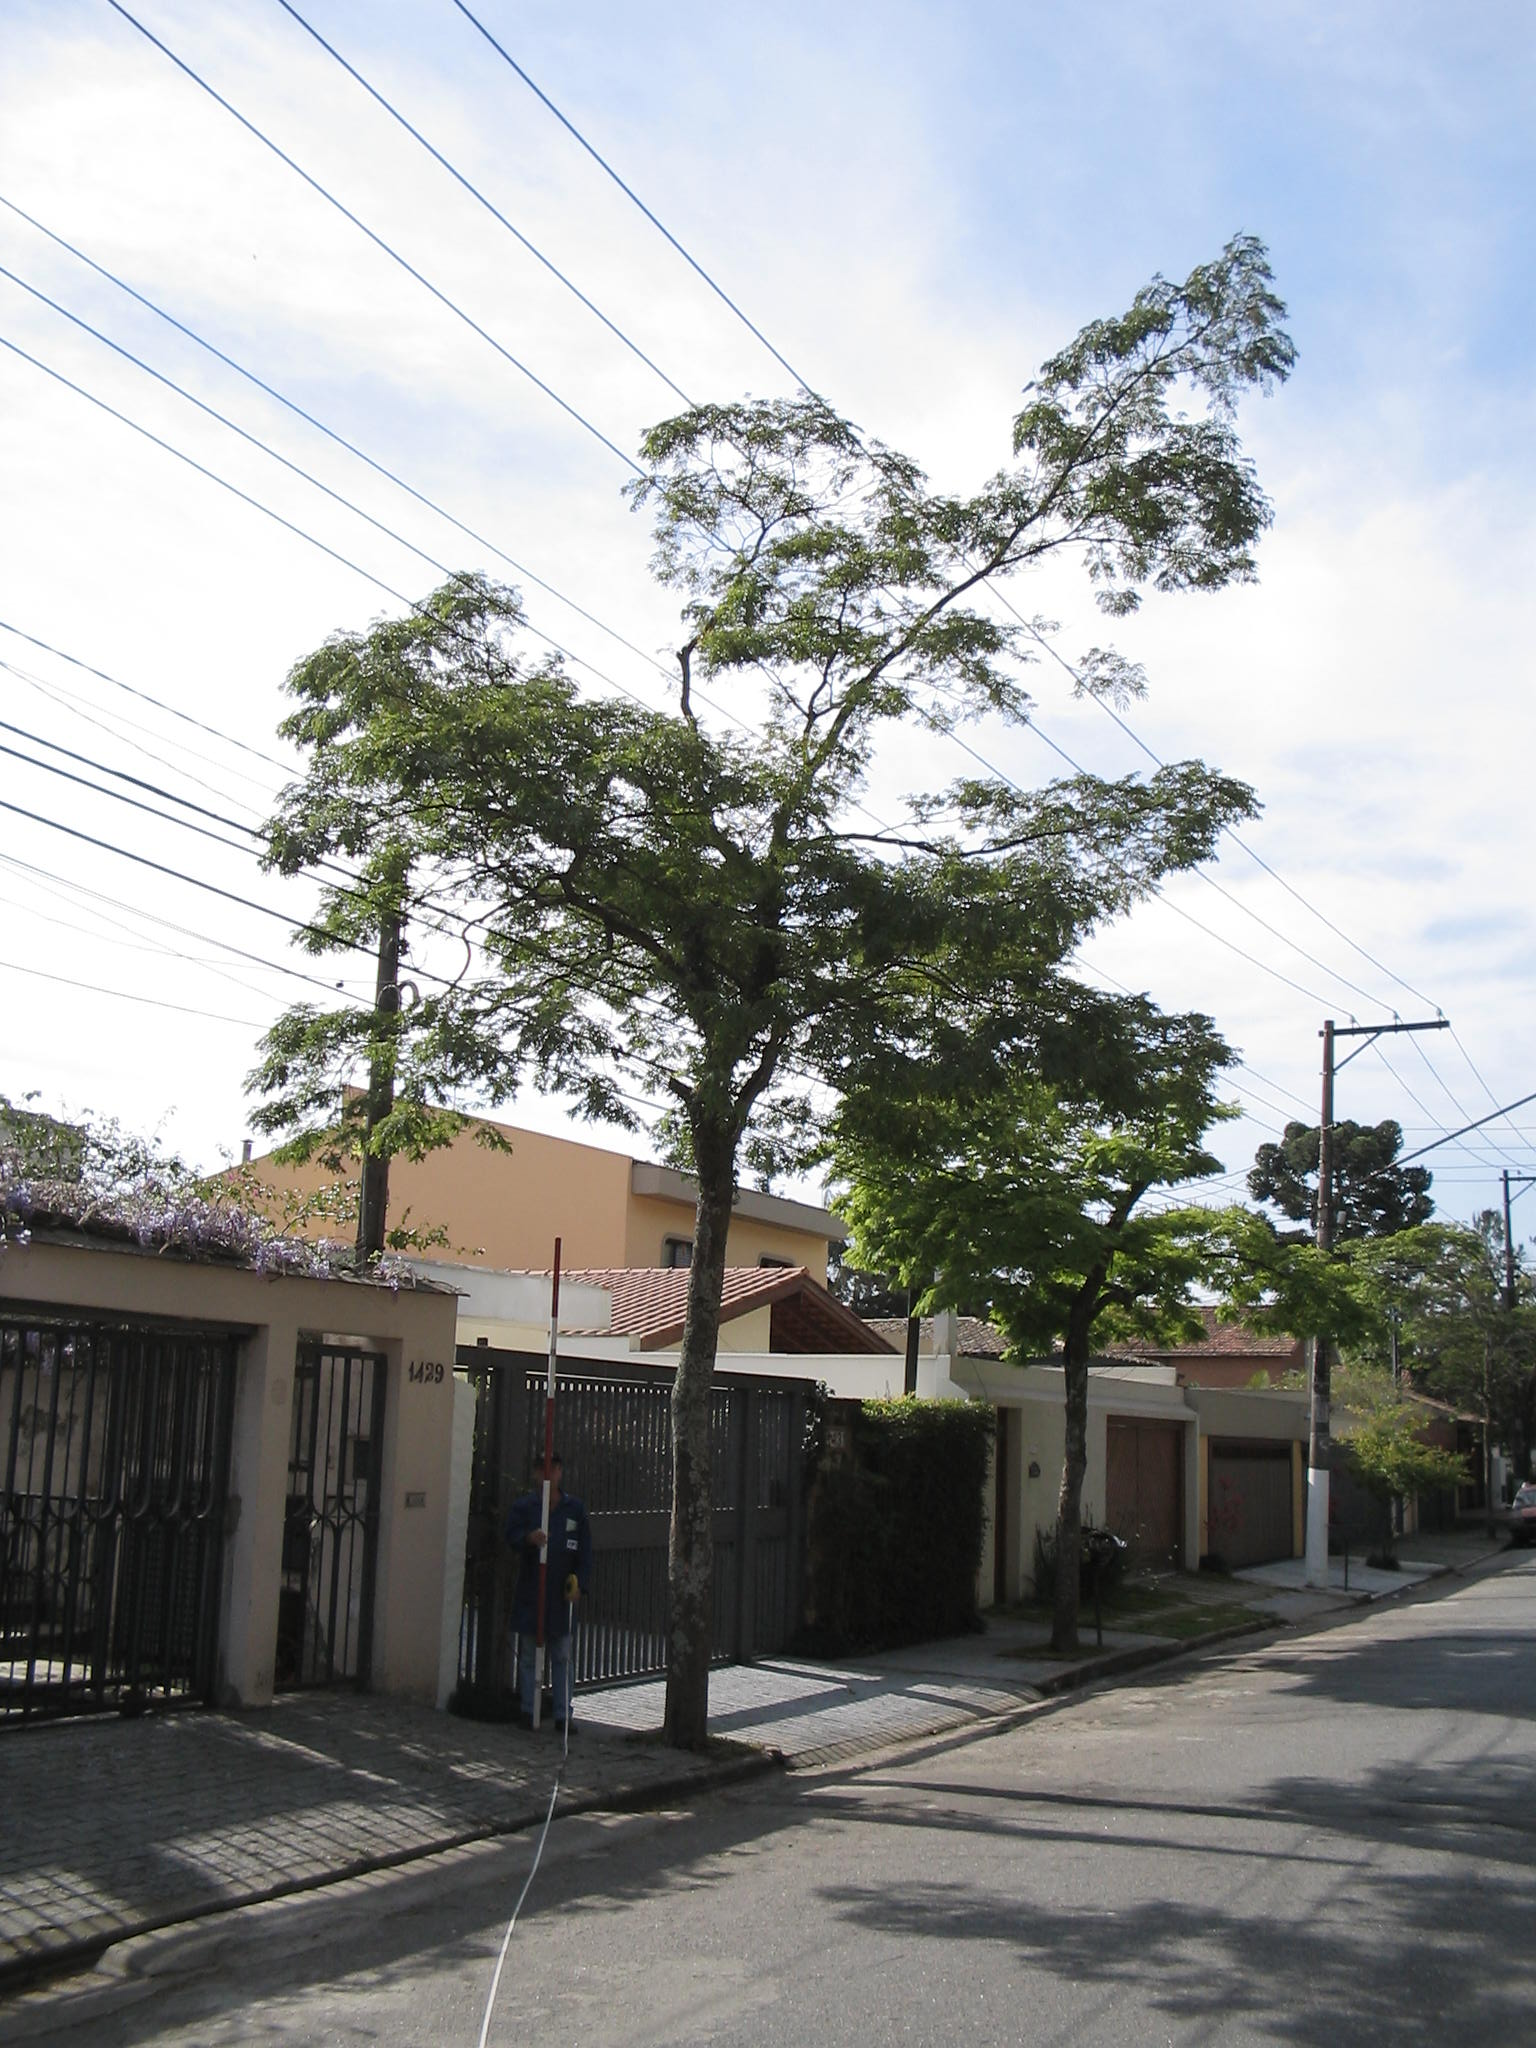crown: (250, 227, 1321, 1174), (858, 1105, 1346, 1384)
stem: (636, 1166, 766, 1746), (1033, 1363, 1112, 1642)
stick: (503, 1237, 594, 1729)
tree: (244, 218, 1328, 1750), (849, 1097, 1349, 1646)
